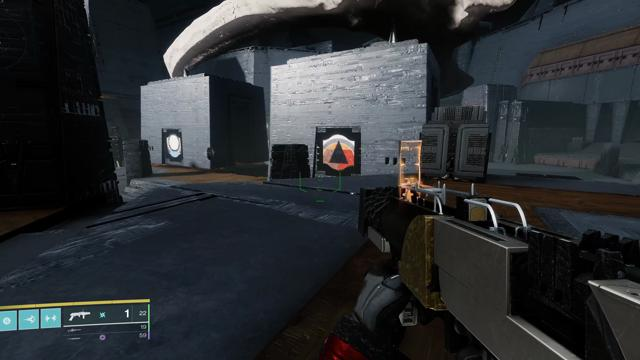pyramid: (323, 134, 354, 170)
traveler: (166, 133, 181, 158)
